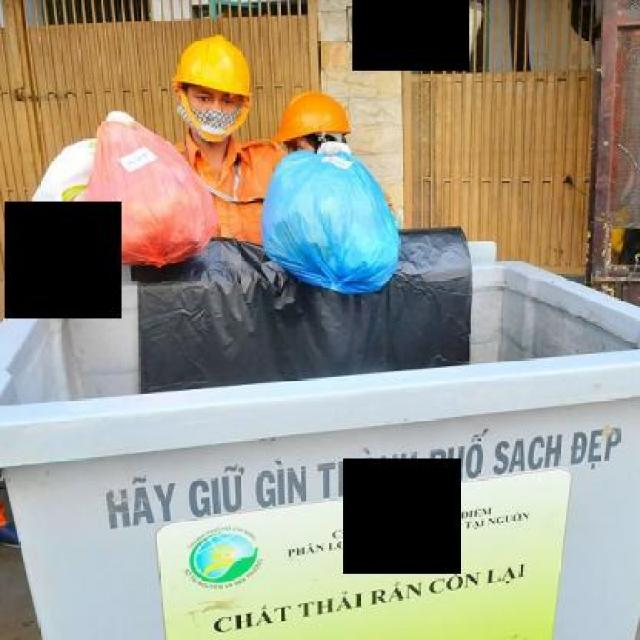plastic bag: (260, 126, 402, 302), (81, 100, 212, 277), (26, 135, 105, 254)
